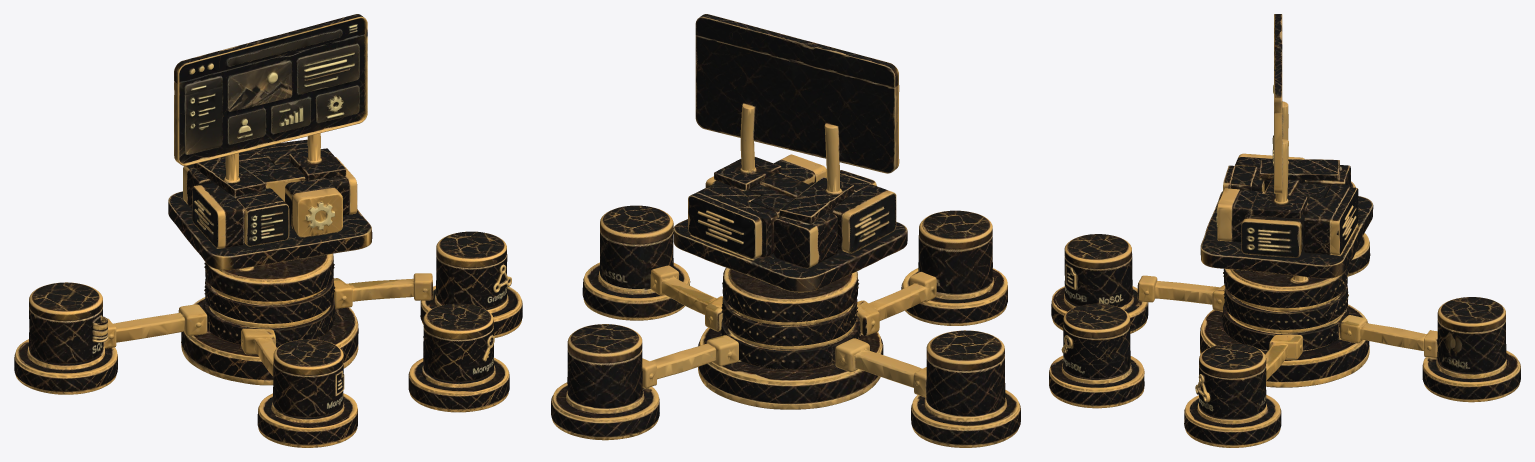
Rendered from systems-sculpture.glb.
3 views of the same model, side by side, from view 1: azimuth 30°, elevation 25°; view 2: azimuth 150°, elevation 25°; view 3: azimuth 270°, elevation 25° (orthographic). The views are drawn at different scales.
Visible parts, largest first — view 1: Display, Foundation, Data centre, Data right, Core, Data left, Bridge; view 2: Display, Foundation, Data centre, Core, Data left, Data right, Bridge; view 3: Data centre, Data right, Foundation, Core, Bridge, Display.
Part boxes in pixels (box(x1,y1,x2,y2)): Display: box(174, 14, 367, 165); Foundation: box(14, 285, 522, 447); Data centre: box(186, 254, 433, 417); Data right: box(334, 231, 511, 381); Core: box(168, 157, 372, 270); Data left: box(29, 282, 315, 418); Bridge: box(184, 133, 346, 214); Display: box(695, 14, 899, 173); Foundation: box(551, 262, 1020, 447); Data centre: box(609, 210, 982, 409); Core: box(673, 170, 907, 292); Data left: box(845, 216, 1005, 416); Data right: box(566, 205, 722, 409); Bridge: box(689, 141, 895, 232); Data centre: box(1064, 242, 1494, 349); Data right: box(1061, 301, 1506, 418); Foundation: box(1049, 233, 1520, 447); Core: box(1200, 157, 1373, 278); Bridge: box(1217, 137, 1357, 222); Display: box(1272, 14, 1288, 193).
Bounding box in the file's own units: 3.7 × 2.49 × 3.53.
2 materials, 1 textured.
